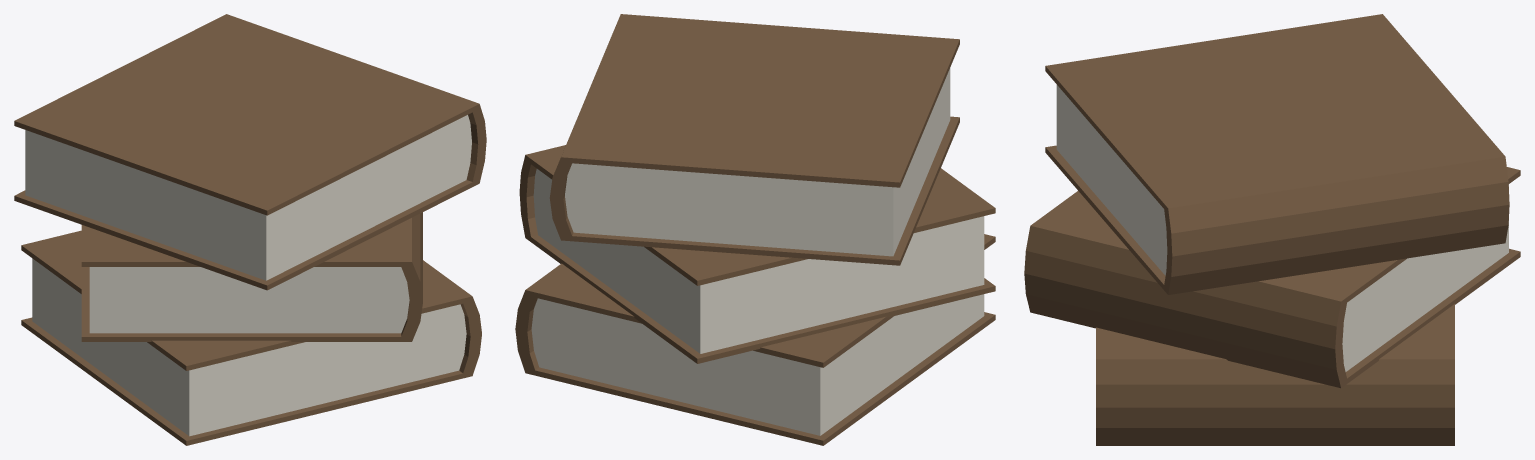
File: Books.fbx
The picture shows the model from 3 angles, left to right: view 1: azimuth 30°, elevation 25°; view 2: azimuth 150°, elevation 25°; view 3: azimuth 270°, elevation 25°; orthographic projection. The views are drawn at different scales.
Visible parts, largest first — view 1: Book2; view 2: Book2; view 3: Book2.
Part boxes in pixels (x1=…): Book2: x1=14, y1=14, x2=486, y2=445; Book2: x1=515, y1=14, x2=995, y2=445; Book2: x1=1024, y1=14, x2=1520, y2=445.
Bounding box in the file's own units: 837 × 478 × 830.
